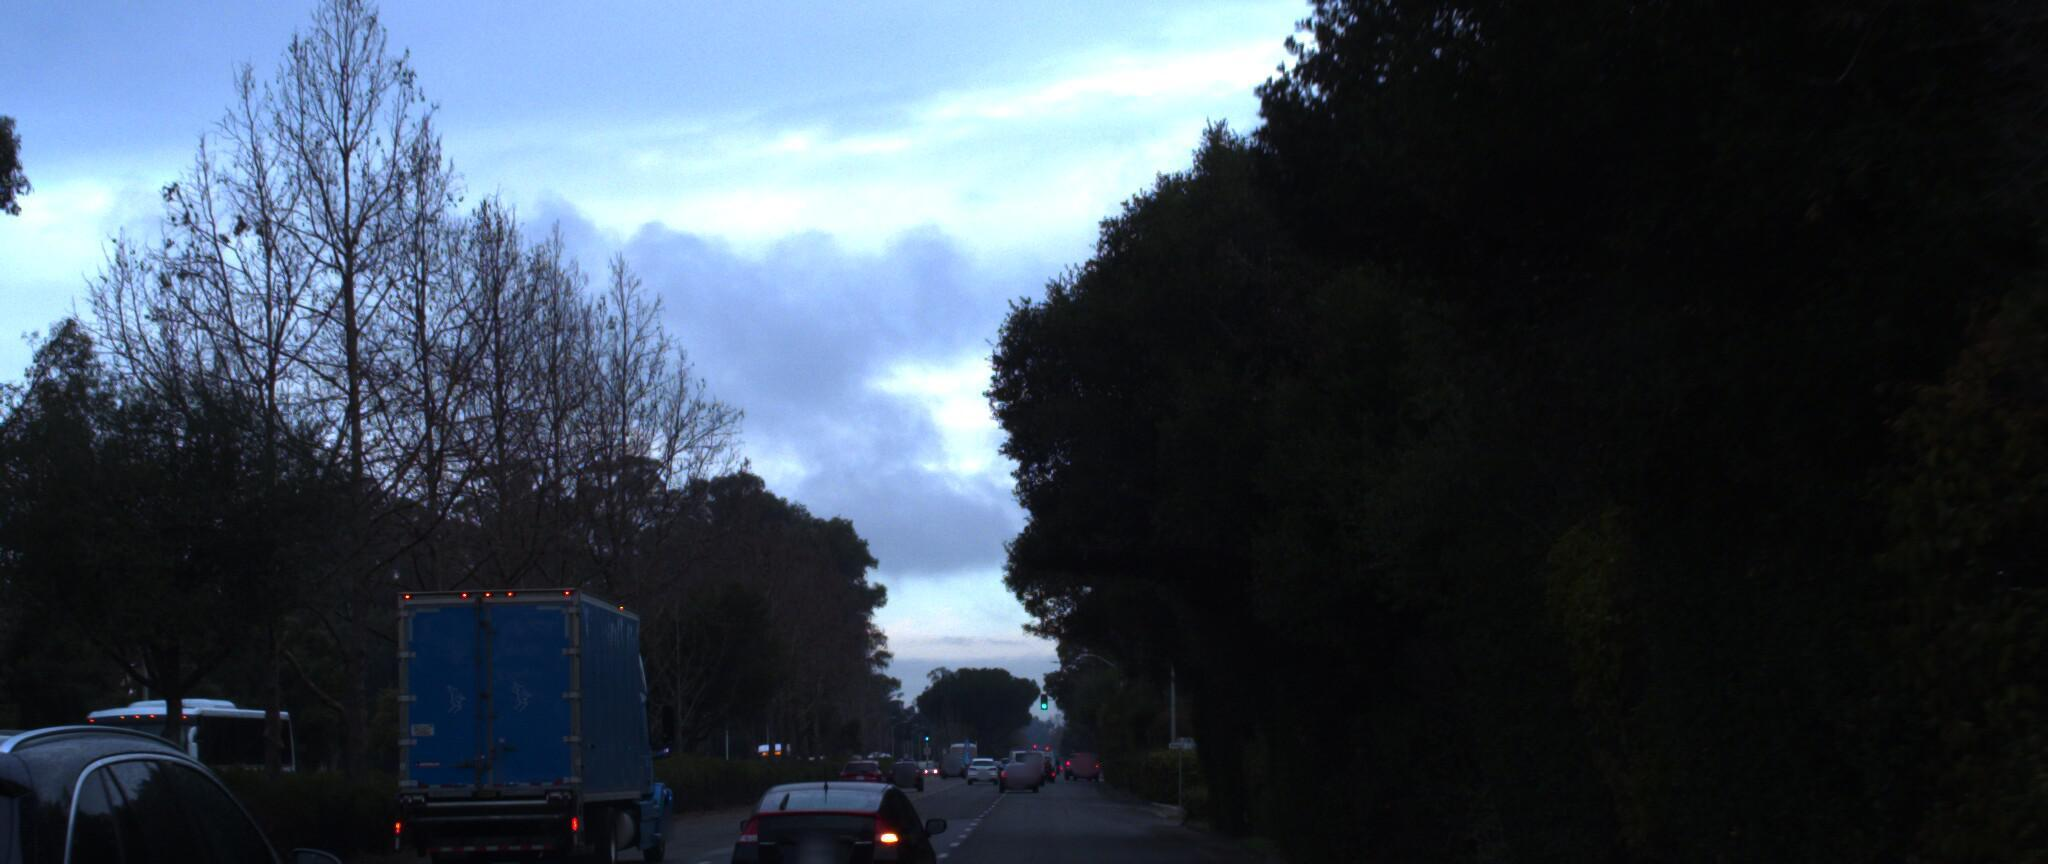car: (0, 710, 438, 864), (725, 777, 951, 864)
truck: (375, 561, 708, 864), (56, 677, 328, 857)
